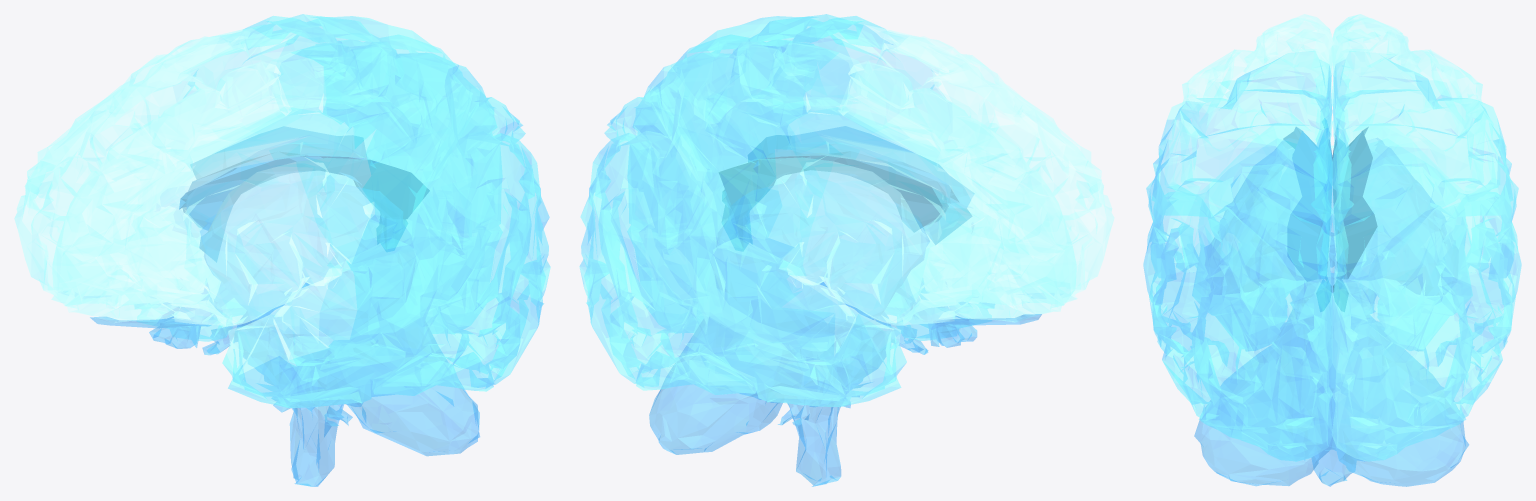
3 renders of one model, left to right at view 1: azimuth 30°, elevation 25°; view 2: azimuth 150°, elevation 25°; view 3: azimuth 270°, elevation 25°, orthographic. The views are drawn at different scales.
Parts seen in each view (by area): view 1: right_08 - Default_0 Back, right_08 - Default_0 Front, centr_08 - Default_0, left_08 - Default_0 Front, left_08 - Default_0 Back, right_08 - Default_0.001, left_08 - Default_0.001; view 2: left_08 - Default_0 Back, left_08 - Default_0 Front, centr_08 - Default_0, right_08 - Default_0 Front, right_08 - Default_0 Back, left_08 - Default_0.001, right_08 - Default_0.001; view 3: left_08 - Default_0 Back, right_08 - Default_0 Back, centr_08 - Default_0, right_08 - Default_0 Front, left_08 - Default_0 Front, right_08 - Default_0.001, left_08 - Default_0.001.
Boxes of the visible parts, x1,y1,x2,y2 form: right_08 - Default_0 Back: (217, 41, 550, 407); right_08 - Default_0 Front: (52, 51, 375, 374); centr_08 - Default_0: (90, 171, 479, 486); left_08 - Default_0 Front: (14, 27, 287, 306); left_08 - Default_0 Back: (134, 14, 502, 341); right_08 - Default_0.001: (179, 153, 429, 262); left_08 - Default_0.001: (182, 126, 385, 244); left_08 - Default_0 Back: (579, 41, 912, 406); left_08 - Default_0 Front: (768, 50, 1076, 355); centr_08 - Default_0: (649, 170, 1041, 486); right_08 - Default_0 Front: (842, 24, 1114, 305); right_08 - Default_0 Back: (627, 14, 994, 340); left_08 - Default_0.001: (718, 152, 942, 251); right_08 - Default_0.001: (744, 126, 974, 244); left_08 - Default_0 Back: (1331, 51, 1521, 461); right_08 - Default_0 Back: (1143, 51, 1333, 461); centr_08 - Default_0: (1194, 138, 1468, 486); right_08 - Default_0 Front: (1159, 14, 1333, 252); left_08 - Default_0 Front: (1331, 14, 1500, 238); right_08 - Default_0.001: (1283, 118, 1332, 311); left_08 - Default_0.001: (1332, 124, 1377, 311).
Size of the model in its own units: 4.73 by 4.32 by 3.5.
2 materials, 2 textured.
